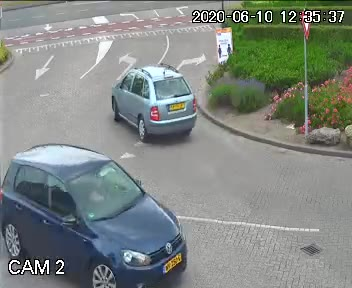car: (1, 135, 188, 284), (102, 59, 209, 144)
